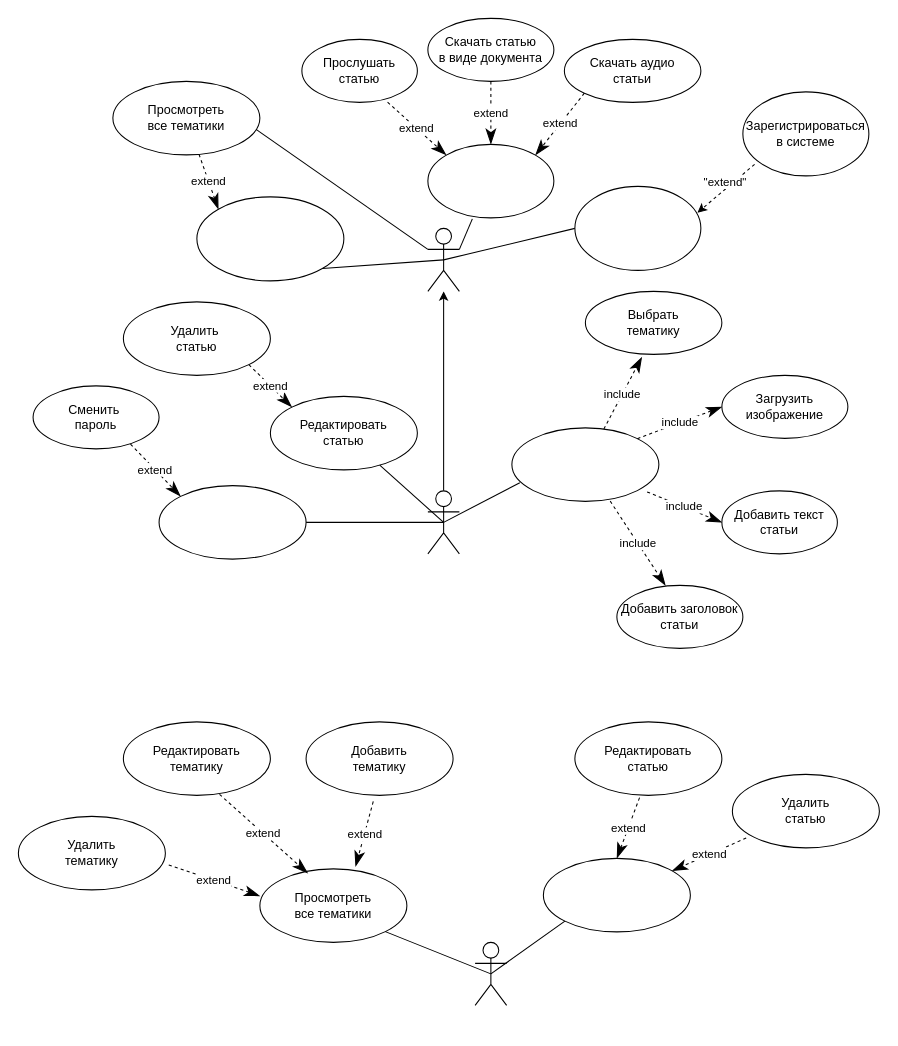
Some shapes in this 898 by 1046 pixel diagram are drawn without their labels. The centre of each missing label's shape, as x and y in pixels:
Авторизованный пользователь: point (443, 522)
Авторизоваться в системе: point (637, 227)
Администратор: point (490, 973)
Добавить статью: point (585, 464)
Неавторизованный пользователь: point (443, 259)
Просмотреть все статьи: point (616, 894)
Просмотреть статьи выбранной тематики: point (270, 238)
Просмотреть статью: point (490, 180)
Редактировать профиль: point (232, 522)
